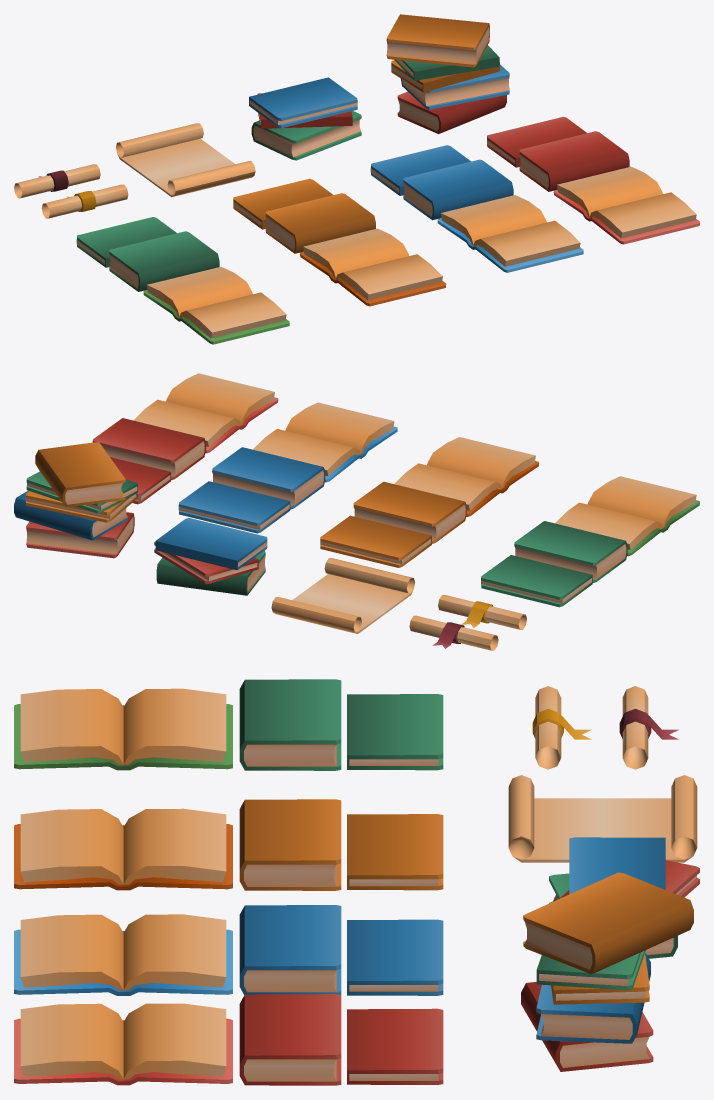
Rendered from Books and Paper.fbx.
3 renders of one model, top to bottom at view 1: azimuth 30°, elevation 25°; view 2: azimuth 150°, elevation 25°; view 3: azimuth 270°, elevation 25°, orthographic. The views are drawn at different scales.
Visible parts, largest first — view 1: Book_Pile.001, Book_Pile, Book_Open.001, Book_Open.003, Book_Open, Book_Open.002, Letter, Book_Closed.002, Book_Closed, Book_Closed.003, Book_Closed.001, Book_Closed_Small.001 (+5 smaller); view 2: Book_Pile.001, Book_Pile, Letter, Book_Open.002, Book_Open.003, Book_Open, Book_Open.001, Book_Closed.003, Book_Closed.001, Book_Closed.002, Book_Closed, Book_Closed_Small.001 (+5 smaller); view 3: Book_Pile.001, Book_Open, Book_Open.001, Book_Open.003, Book_Open.002, Letter, Book_Closed.002, Book_Closed.003, Book_Closed, Book_Closed.001, Book_Closed_Small.001, Book_Closed_Small.002 (+5 smaller).
Boxes of the visible parts, x1,y1,x2,y2 form: Book_Pile.001: (386, 14, 509, 133); Book_Pile: (249, 77, 361, 160); Book_Open.001: (437, 195, 583, 272); Book_Open.003: (143, 266, 289, 344); Book_Open: (553, 166, 699, 244); Book_Open.002: (300, 228, 446, 306); Letter: (116, 123, 255, 197); Book_Closed.002: (265, 193, 375, 253); Book_Closed: (519, 131, 629, 191); Book_Closed.003: (109, 231, 219, 291); Book_Closed.001: (403, 159, 513, 220); Book_Closed_Small.001: (370, 145, 470, 195); Book_Pile.001: (14, 442, 137, 558); Book_Pile: (154, 518, 267, 595); Letter: (271, 558, 415, 633); Book_Open.002: (394, 437, 539, 516); Book_Open.003: (555, 476, 699, 556); Book_Open: (133, 373, 278, 453); Book_Open.001: (253, 402, 397, 482); Book_Closed.003: (514, 521, 627, 582); Book_Closed.001: (212, 447, 325, 509); Book_Closed.002: (353, 481, 466, 543); Book_Closed: (92, 418, 205, 480); Book_Closed_Small.001: (178, 481, 290, 533); Book_Pile.001: (521, 872, 693, 1071); Book_Open: (14, 1003, 232, 1085); Book_Open.001: (14, 914, 232, 995); Book_Open.003: (14, 688, 232, 770); Book_Open.002: (14, 808, 232, 890); Letter: (508, 775, 697, 862); Book_Closed.002: (239, 799, 341, 890); Book_Closed.003: (239, 679, 341, 770); Book_Closed: (239, 994, 341, 1085); Book_Closed.001: (239, 905, 341, 994); Book_Closed_Small.001: (347, 919, 443, 995); Book_Closed_Small.002: (347, 814, 443, 890).
Size of the model in its own units: 1.8 by 0.2786 by 1.39.
